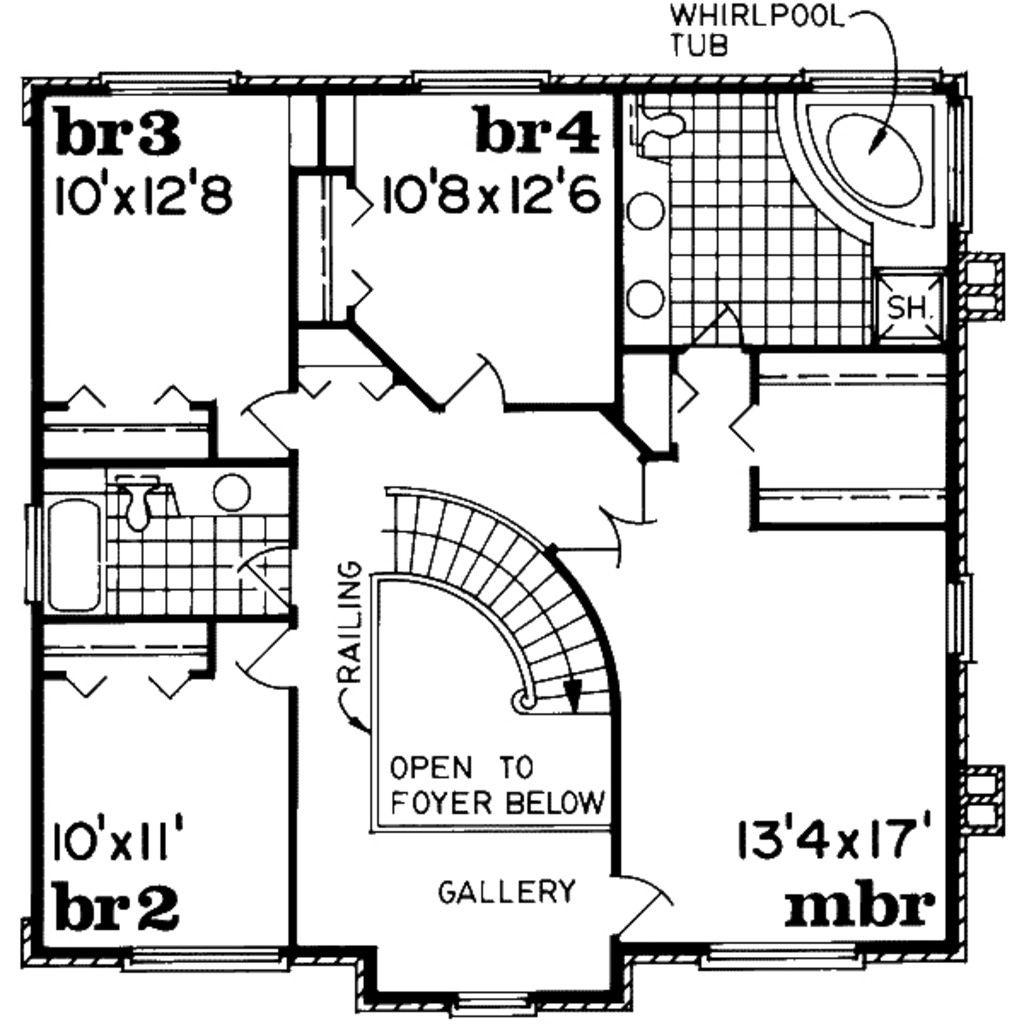door: (230, 388, 304, 461), (241, 628, 308, 701), (435, 359, 516, 417), (602, 866, 666, 938)
large_sink: (109, 472, 164, 541), (623, 100, 690, 151)
small_sink: (617, 156, 679, 343), (176, 468, 296, 516)
stairs: (381, 491, 612, 718)
tub: (802, 99, 946, 249), (40, 486, 109, 620)
windows: (692, 939, 872, 973), (118, 945, 284, 979), (90, 63, 250, 98), (396, 66, 551, 96), (938, 574, 983, 672)
